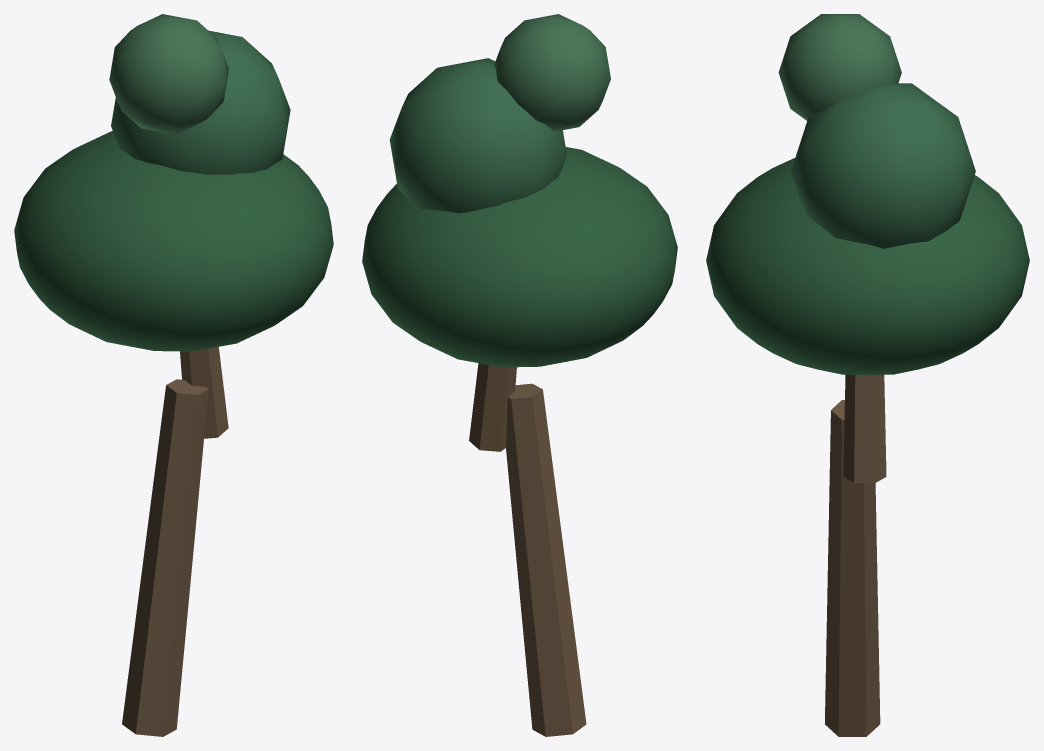
Rendered from loc_cc_nat_pine.glb.
The picture shows the model from 3 angles, left to right: view 1: azimuth 30°, elevation 25°; view 2: azimuth 150°, elevation 25°; view 3: azimuth 270°, elevation 25°; orthographic projection.
Parts seen in each view (by area): view 1: crown_low, Cone, crown_mid, crown_top, Cone.001; view 2: crown_low, crown_mid, Cone, crown_top, Cone.001; view 3: crown_low, crown_mid, Cone, crown_top, Cone.001.
Part boxes in pixels (bbox=[...]): crown_low: bbox=[14, 131, 333, 351]; Cone: bbox=[122, 379, 208, 736]; crown_mid: bbox=[111, 30, 290, 174]; crown_top: bbox=[109, 14, 228, 134]; Cone.001: bbox=[180, 347, 228, 438]; crown_low: bbox=[362, 147, 677, 367]; crown_mid: bbox=[389, 58, 566, 213]; Cone: bbox=[506, 383, 586, 736]; crown_top: bbox=[494, 14, 610, 131]; Cone.001: bbox=[469, 363, 516, 451]; crown_low: bbox=[706, 158, 1029, 375]; crown_mid: bbox=[791, 83, 975, 248]; Cone: bbox=[825, 400, 880, 736]; crown_top: bbox=[778, 14, 901, 120]; Cone.001: bbox=[843, 374, 886, 482].
Bounding box in the file's own units: 1.05 × 2.57 × 1.05.
